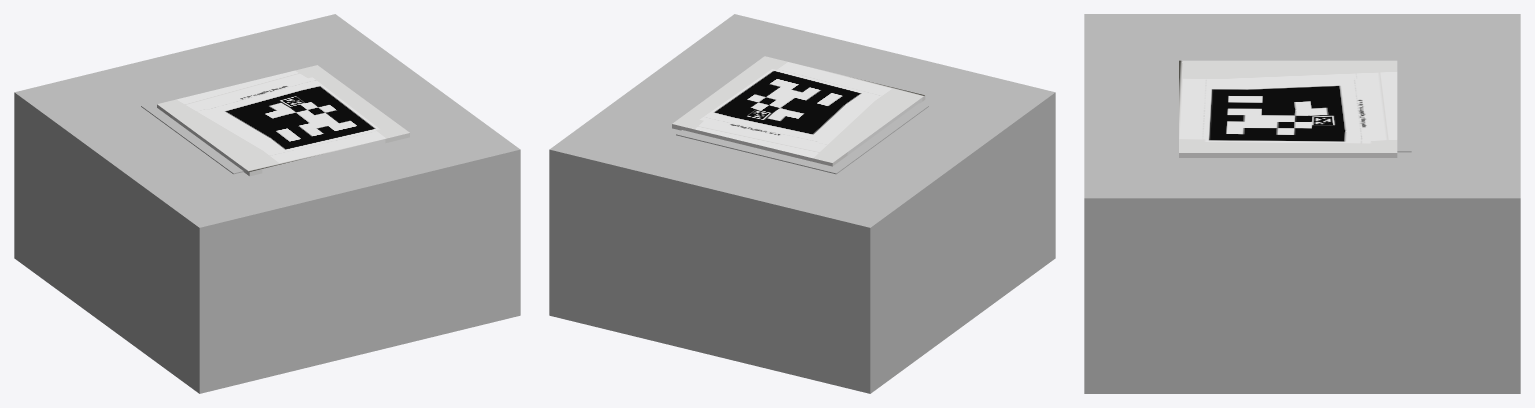
The model's file is apriltag_mesh6.dae.
3 views of the same model, side by side, from view 1: azimuth 30°, elevation 25°; view 2: azimuth 150°, elevation 25°; view 3: azimuth 270°, elevation 25° (orthographic). The views are drawn at different scales.
Parts seen in each view (by area): view 1: node; view 2: node; view 3: node.
Boxes of the visible parts, x1=… form: node: x1=14, y1=14, x2=520, y2=393; node: x1=549, y1=14, x2=1055, y2=393; node: x1=1084, y1=14, x2=1520, y2=393.
Size of the model in its own units: 2 by 1.02 by 2.
Materials: 2 (1 with a texture image).
